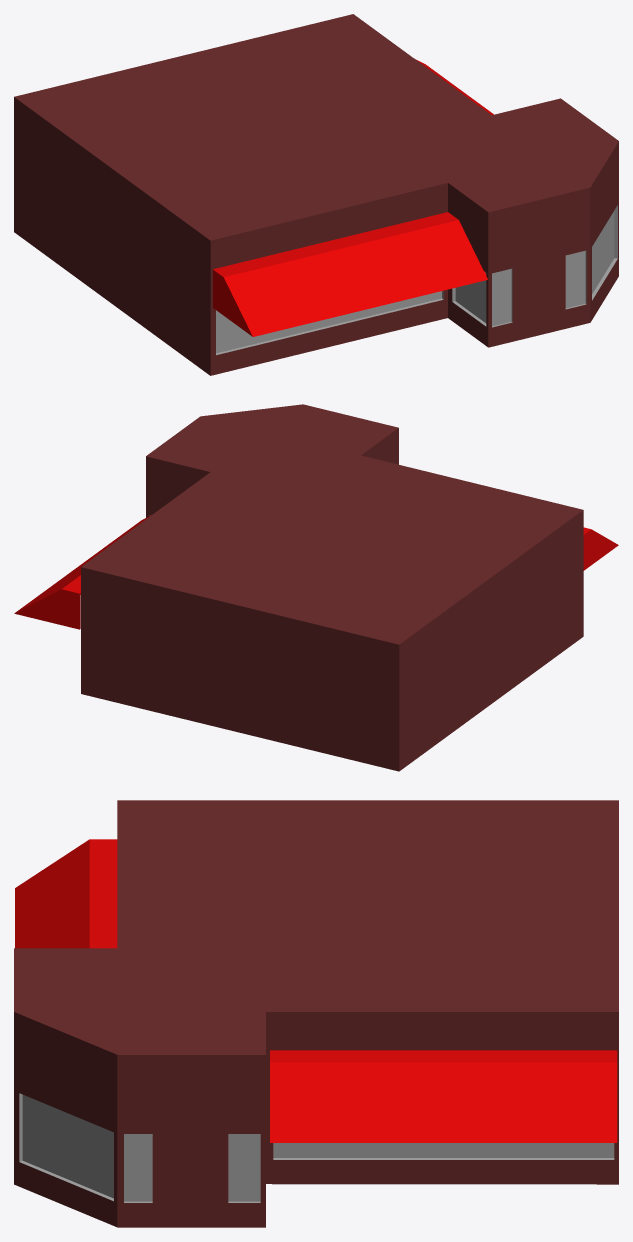
Rendered from Resturaunt.fbx.
The picture shows the model from 3 angles, top to bottom: view 1: azimuth 30°, elevation 25°; view 2: azimuth 150°, elevation 25°; view 3: azimuth 270°, elevation 25°; orthographic projection. The views are drawn at different scales.
Visible parts, largest first — view 1: Resturaunt, pCube30; view 2: Resturaunt, pCube31, pCube30; view 3: Resturaunt, pCube31, pCube30.
Part boxes in pixels (x1,y1,x2,y2): Resturaunt: (14,14,618,375); pCube30: (213,212,487,336); Resturaunt: (81,404,583,771); pCube31: (14,515,151,629); pCube30: (583,527,618,570); Resturaunt: (14,800,618,1227); pCube31: (270,1050,617,1142); pCube30: (15,839,117,948).
Bounding box in the file's own units: 1.48 × 0.4648 × 1.48.
